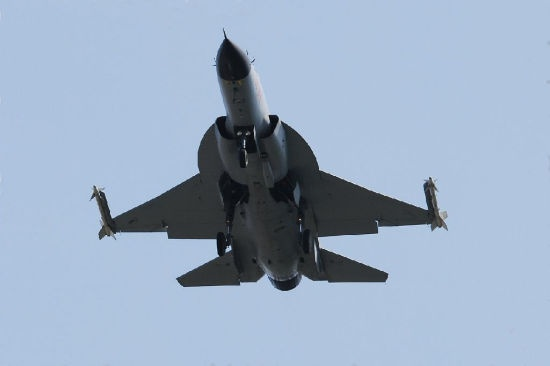airplane: (87, 24, 450, 296)
